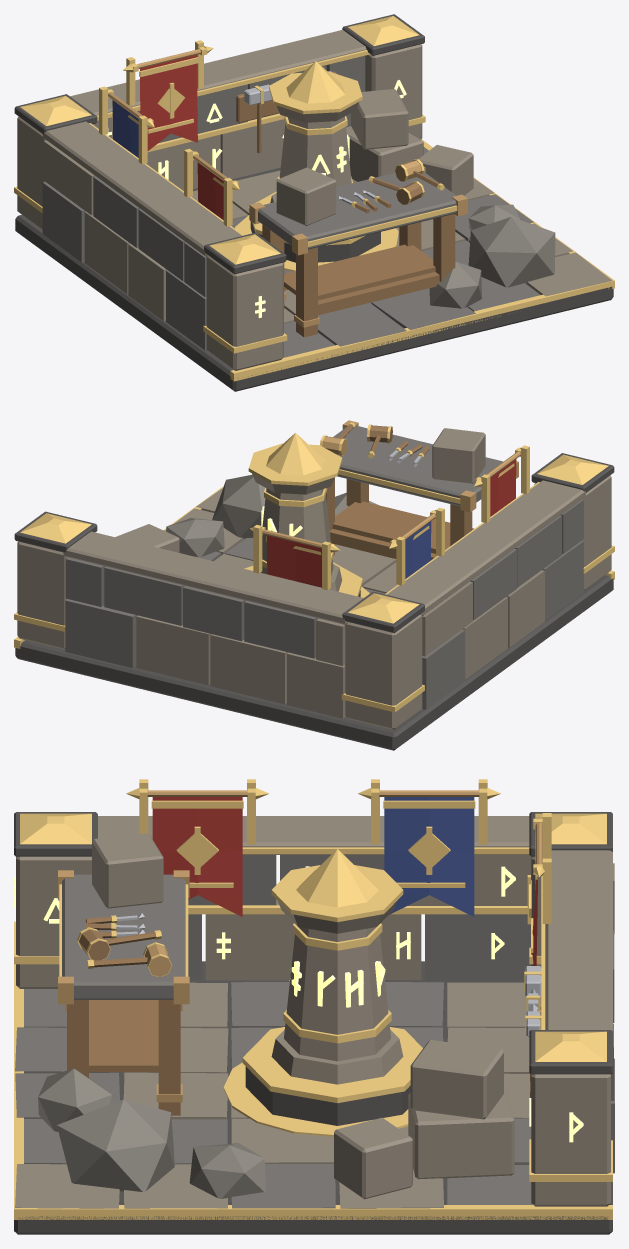
File: mason-t3.glb
3 renders of one model, top to bottom at view 1: azimuth 30°, elevation 25°; view 2: azimuth 150°, elevation 25°; view 3: azimuth 270°, elevation 25°, orthographic. The views are drawn at different scales.
Visible parts, largest first — view 1: wall_back, floor_flagstones, bench_frame_oak, floor_slab, wall_back_cap, wall_right, pillar_bl, bench_top, wall_right_cap, boulder_1, work_column_gold, floor_trim_gold (+30 smaller); view 2: wall_right, wall_back, floor_slab, wall_right_cap, wall_back_cap, pillar_br, bench_frame_oak, bench_top, pillar_fr, work_column_gold, floor_flagstones, work_column (+20 smaller); view 3: floor_flagstones, wall_back, work_column, work_column_gold, floor_slab, wall_right_cap, bench_top, pillar_fr, bench_frame_oak, floor_trim_gold, boulder_1, banner_back_r (+33 smaller).
Boxes of the visible parts, <box> form: wall_back: <box>42,140,206,350</box>; floor_flagstones: <box>191,147,612,357</box>; bench_frame_oak: <box>262,214,455,337</box>; floor_slab: <box>15,167,613,391</box>; wall_back_cap: <box>43,121,241,256</box>; wall_right: <box>94,56,365,190</box>; pillar_bl: <box>206,255,283,370</box>; bench_top: <box>258,172,456,249</box>; wall_right_cap: <box>70,30,366,120</box>; boulder_1: <box>468,217,555,287</box>; work_column_gold: <box>248,61,365,245</box>; floor_trim_gold: <box>230,139,614,381</box>; wall_right: <box>65,557,345,718</box>; wall_back: <box>422,499,583,709</box>; floor_slab: <box>15,539,613,750</box>; wall_right_cap: <box>63,531,363,624</box>; wall_back_cap: <box>387,480,585,615</box>; pillar_br: <box>345,614,422,729</box>; bench_frame_oak: <box>326,478,473,560</box>; bench_top: <box>333,425,503,506</box>; pillar_fr: <box>17,541,67,649</box>; work_column_gold: <box>244,433,362,596</box>; floor_flagstones: <box>164,488,397,594</box>; work_column: <box>252,473,342,591</box>; floor_flagstones: <box>15,982,541,1208</box>; wall_back: <box>188,855,531,980</box>; work_column: <box>271,900,403,1084</box>; work_column_gold: <box>242,849,422,1103</box>; floor_slab: <box>14,961,612,1234</box>; wall_right_cap: <box>545,850,612,1030</box>; bench_top: <box>62,874,185,999</box>; pillar_fr: <box>531,1074,610,1206</box>; bench_frame_oak: <box>67,1000,180,1115</box>; floor_trim_gold: <box>14,964,612,1219</box>; boulder_1: <box>57,1099,174,1191</box>; banner_back_r: <box>384,797,474,916</box>.
Size of what is drawn, in the model's own units: 3.01 by 1.48 by 3.01.
